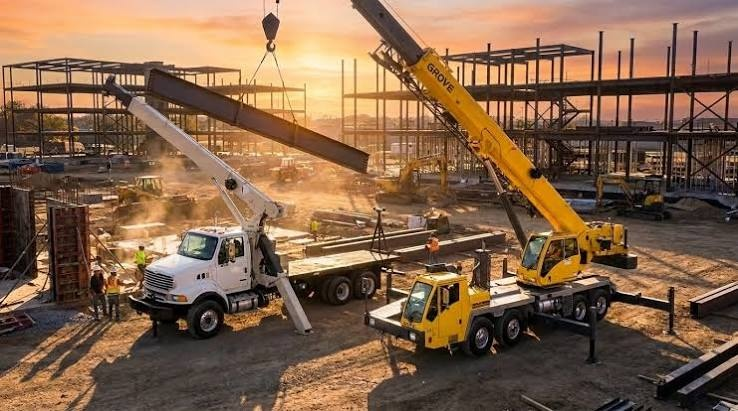crane: (251, 3, 665, 366), (86, 65, 391, 371)
